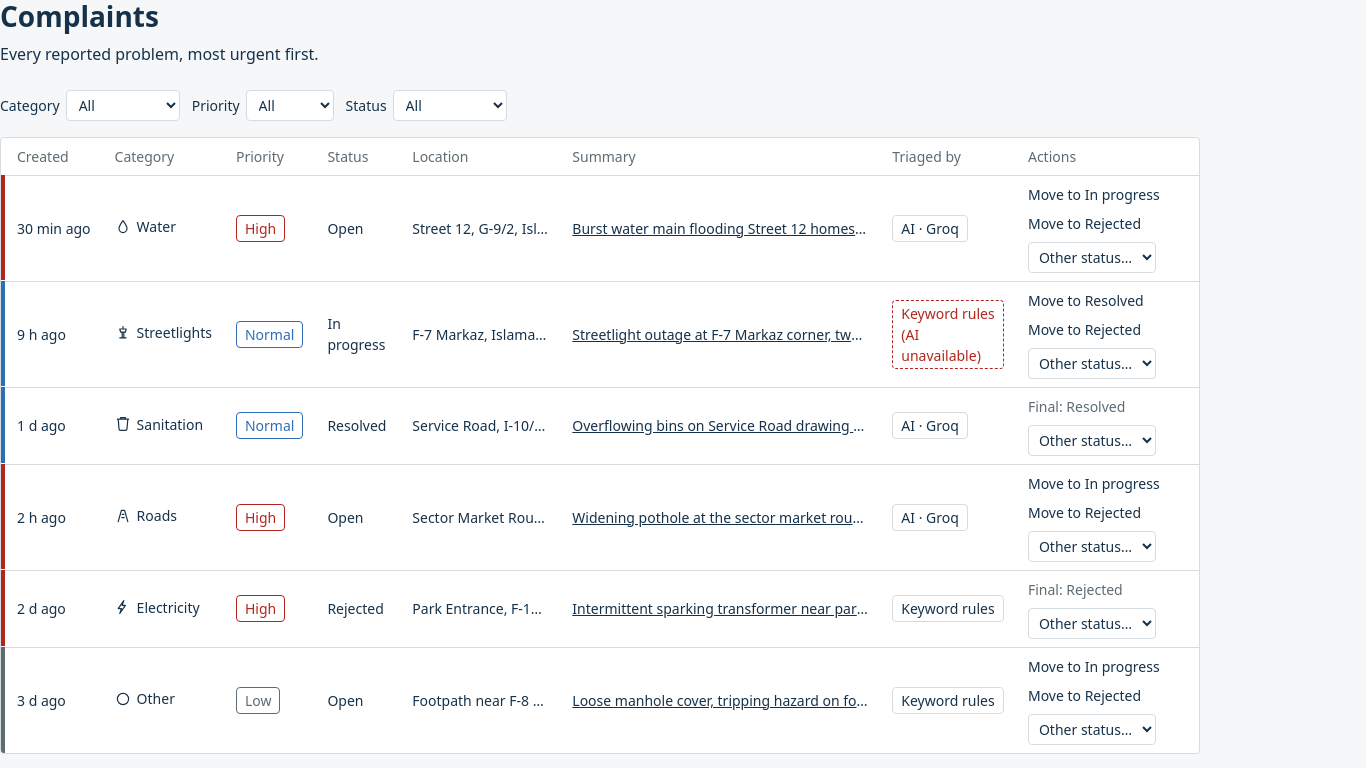
Test case: 7. an invalid transition shows the server's 409 message verbatim
The image size is (1366, 768).
Select "Open" in the dropdown named "Other status for complaint" in the row of "1 d ago" at (1092,440), box [1028,425,1156,456]
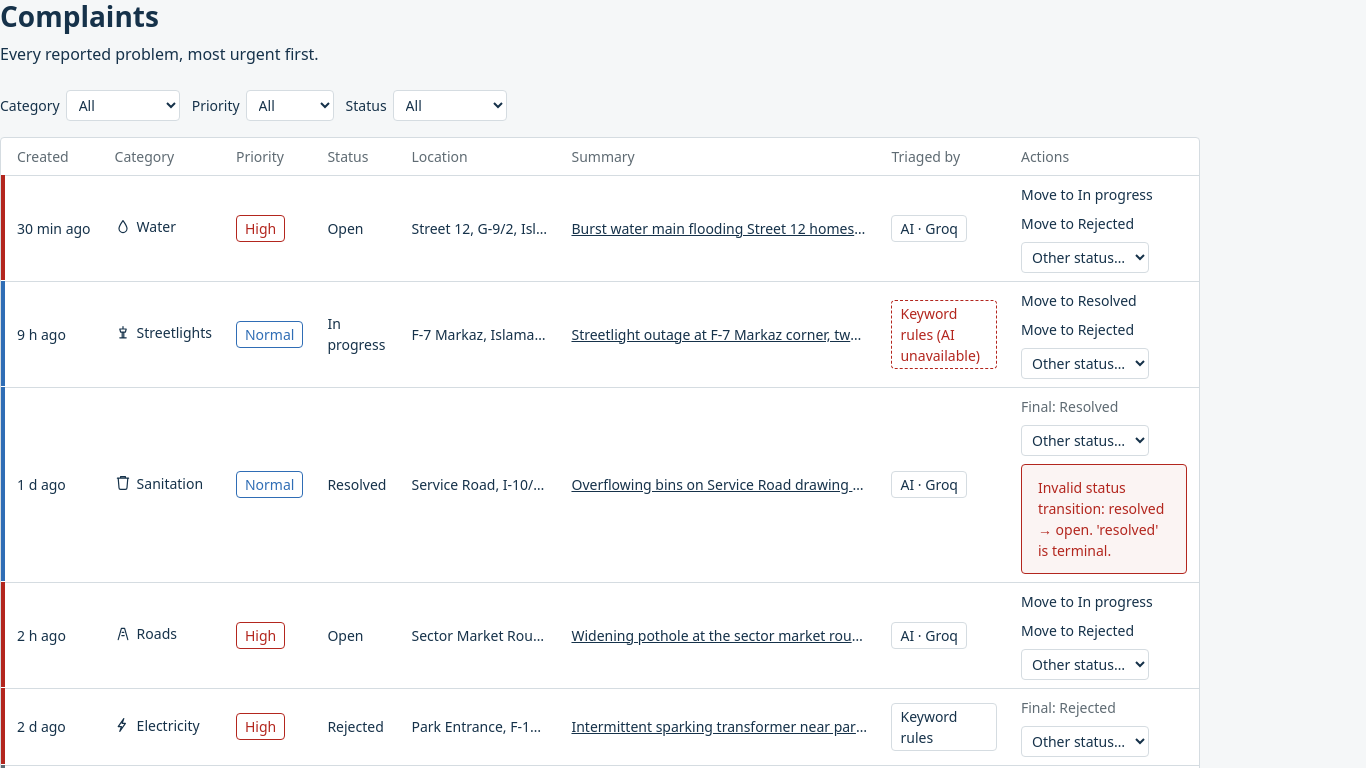
Expected: the text "Final: Resolved" is shown, [1021,396,1118,417]
Expected: the text "Invalid status transition: resolved → open. 'resolved' is terminal." is shown, [1021,464,1187,574]
